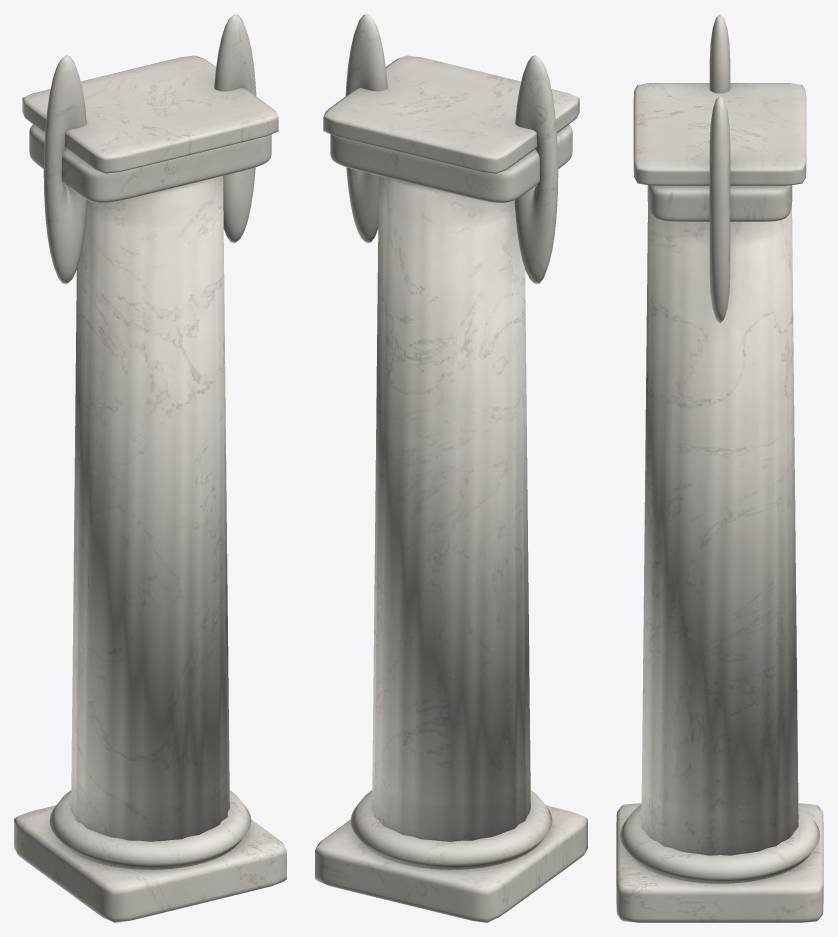
File: ionic-marble.glb
3 renders of one model, left to right at view 1: azimuth 30°, elevation 25°; view 2: azimuth 150°, elevation 25°; view 3: azimuth 270°, elevation 25°, orthographic.
Visible parts, largest first — view 1: marble_column; view 2: marble_column; view 3: marble_column.
Part boxes in pixels (x1,y1,x2,y2): marble_column: (14, 14, 286, 922); marble_column: (315, 14, 587, 922); marble_column: (616, 14, 823, 922).
Size of the model in its own units: 0.6999 by 2.64 by 0.6.
Materials: 1 (1 with a texture image).
